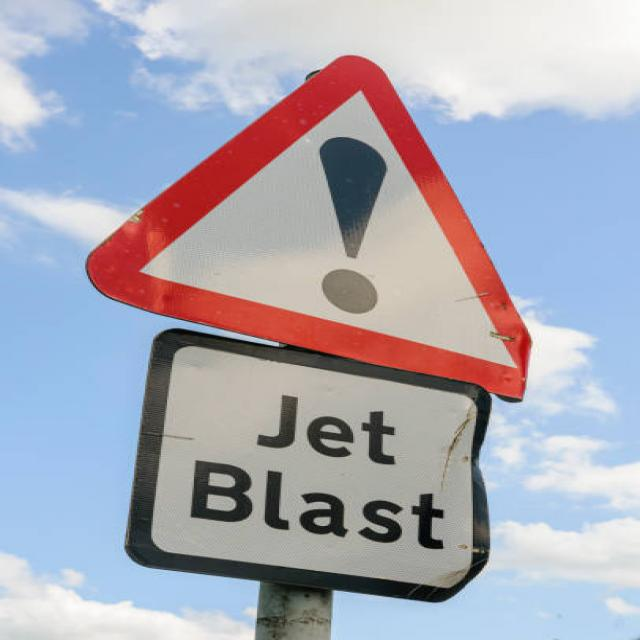warning: (68, 33, 584, 400)
